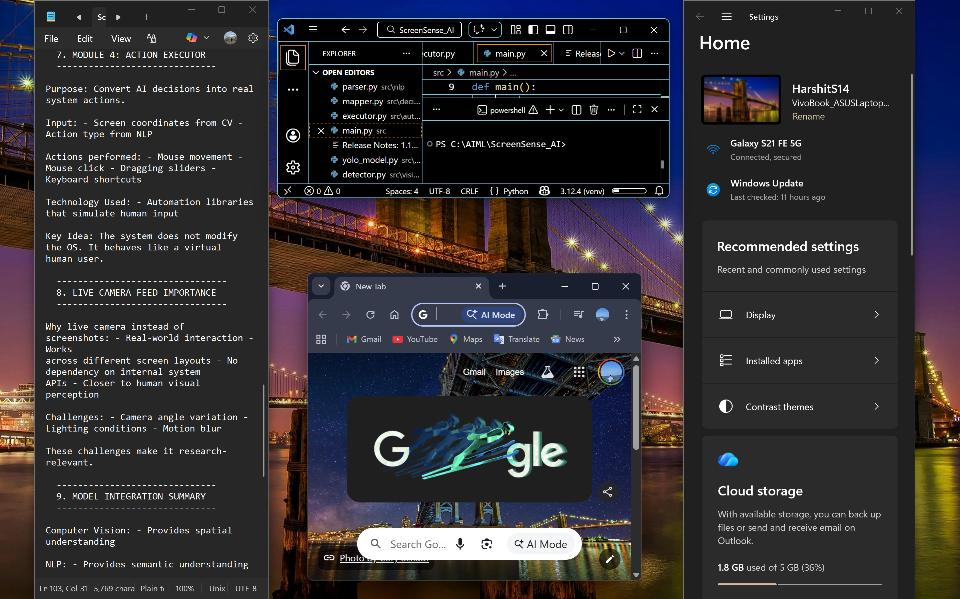close_button: (616, 275, 637, 299), (244, 1, 263, 23), (890, 1, 909, 19), (646, 20, 663, 39)
maximize_button: (213, 0, 235, 26), (585, 275, 608, 299), (614, 20, 636, 40), (858, 1, 881, 19)
minimize_button: (182, 1, 206, 26), (555, 275, 579, 299), (583, 20, 608, 40), (827, 1, 850, 16)
